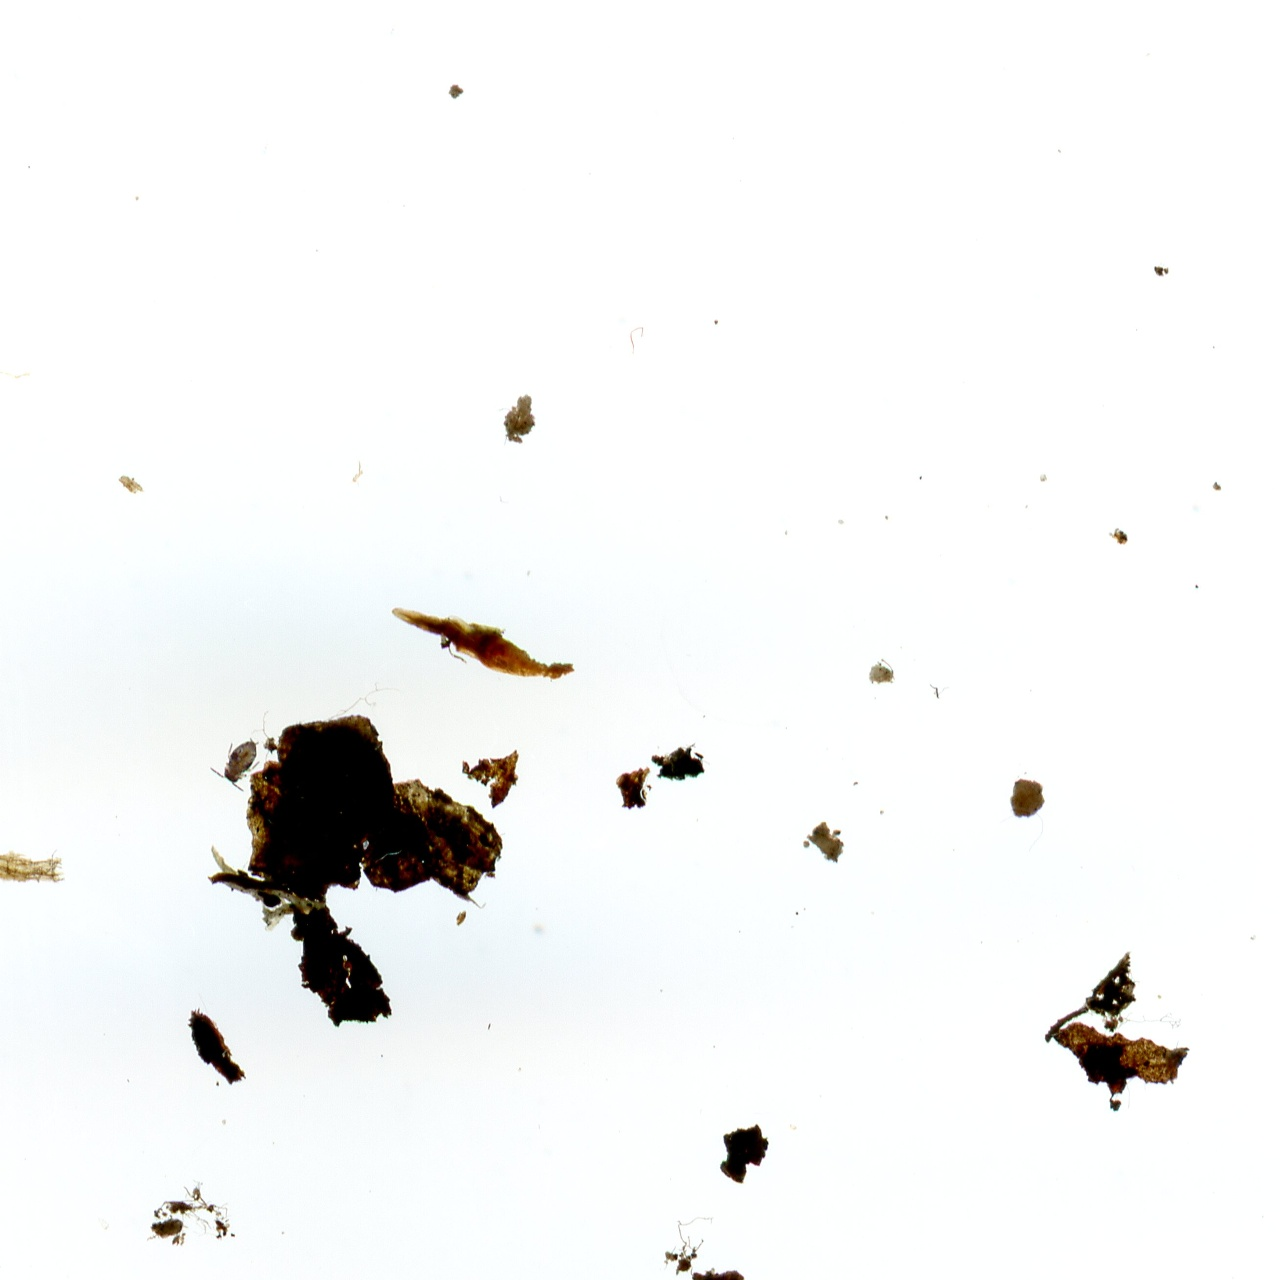arthropod: (204, 723, 274, 798)
